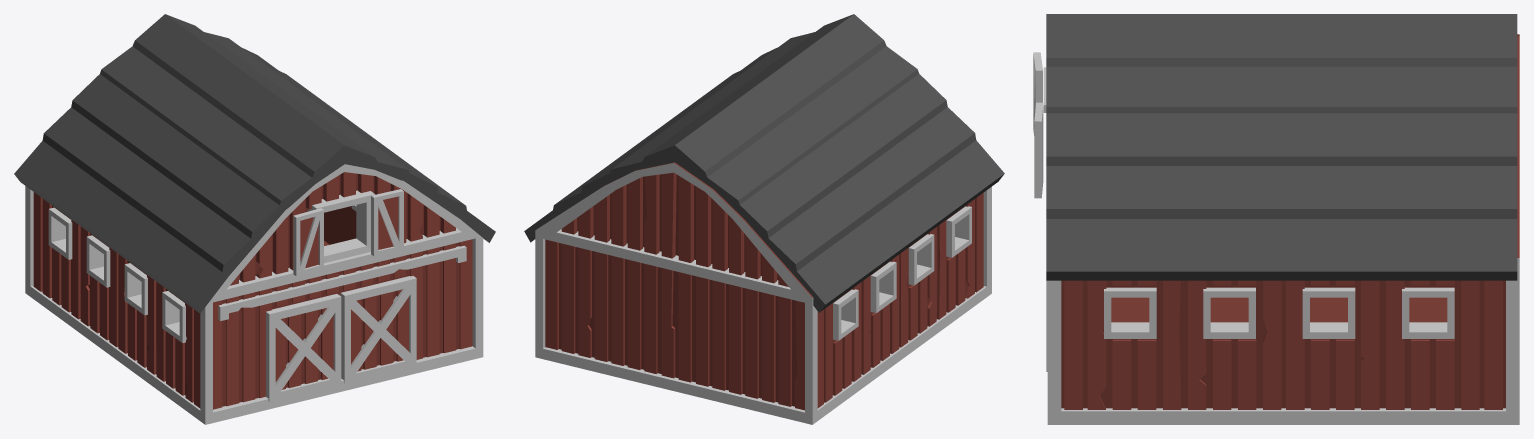
The model's file is barn.glb.
3 renders of one model, left to right at view 1: azimuth 30°, elevation 25°; view 2: azimuth 150°, elevation 25°; view 3: azimuth 270°, elevation 25°, orthographic. The views are drawn at different scales.
Visible parts, largest first — view 1: Barn_Cube.005; view 2: Barn_Cube.005; view 3: Barn_Cube.005.
Part boxes in pixels (<box>): Barn_Cube.005: <box>14,14,495,424</box>; Barn_Cube.005: <box>524,14,1004,424</box>; Barn_Cube.005: <box>1033,14,1519,424</box>.
Size of the model in its own units: 7.73 by 6.01 by 8.22.
